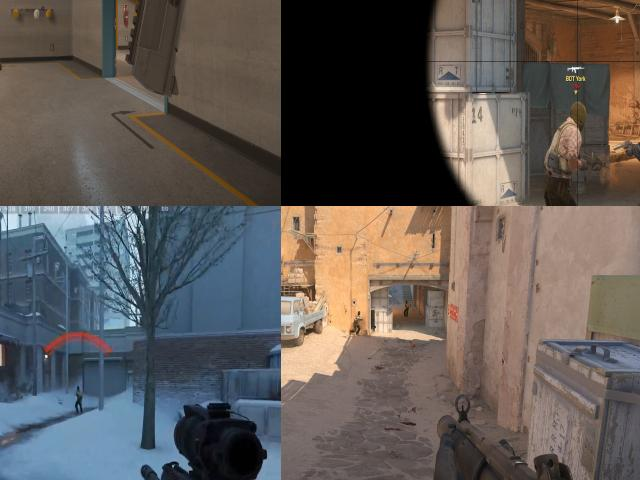T: (555, 101, 589, 206), (75, 382, 83, 410), (353, 310, 362, 334), (403, 300, 410, 315)
T-Head: (567, 103, 586, 126), (357, 310, 361, 316), (405, 300, 408, 304)
